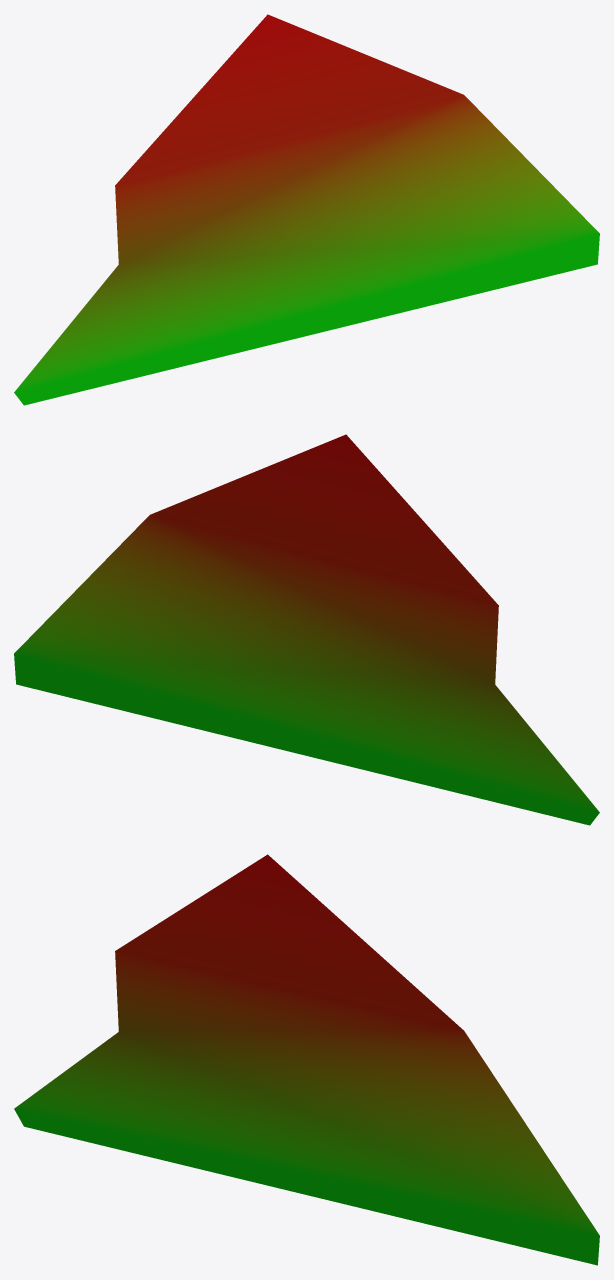
Rendered from Var12_LOD4.fbx.
3 renders of one model, top to bottom at view 1: azimuth 30°, elevation 25°; view 2: azimuth 150°, elevation 25°; view 3: azimuth 330°, elevation 25°, orthographic.
Parts seen in each view (by area): view 1: _2dcf_Var12_LOD4; view 2: _2dcf_Var12_LOD4; view 3: _2dcf_Var12_LOD4.
Boxes of the visible parts, x1,y1,x2,y2 form: _2dcf_Var12_LOD4: (14,14,599,405); _2dcf_Var12_LOD4: (14,434,599,825); _2dcf_Var12_LOD4: (14,854,599,1265).
Bounding box in the file's own units: 32.79 × 17.74 × 4.63e-07.
